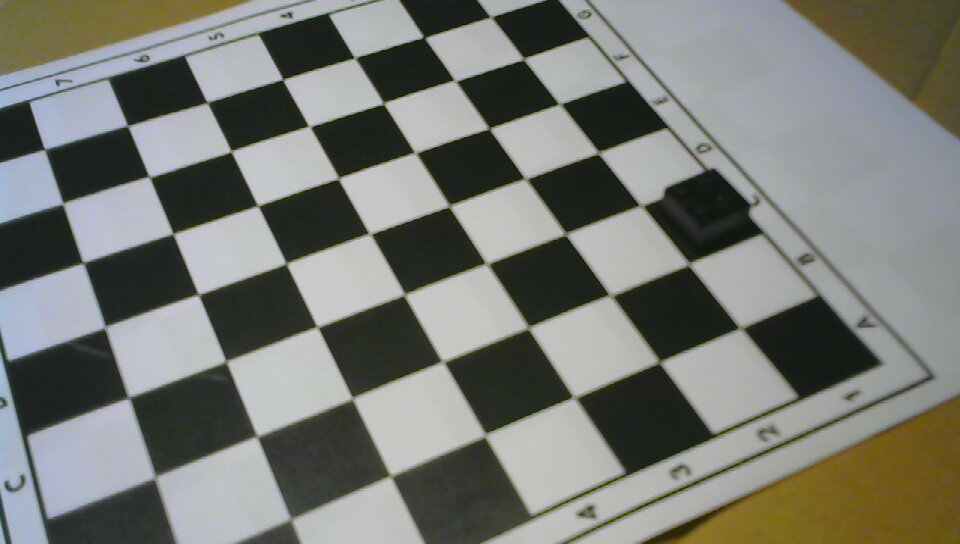bp: (663, 169, 751, 249)
